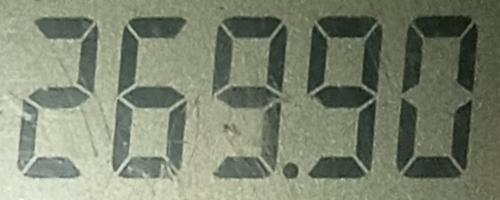.: (281, 160, 303, 184)
